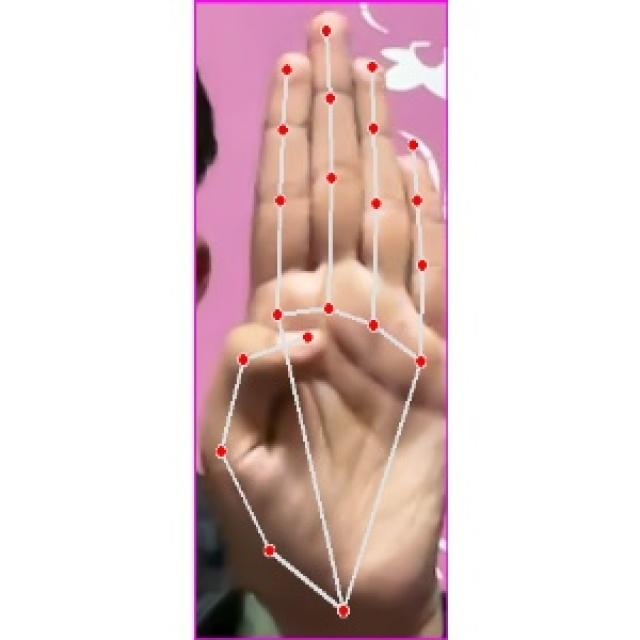B: (201, 1, 443, 640)
